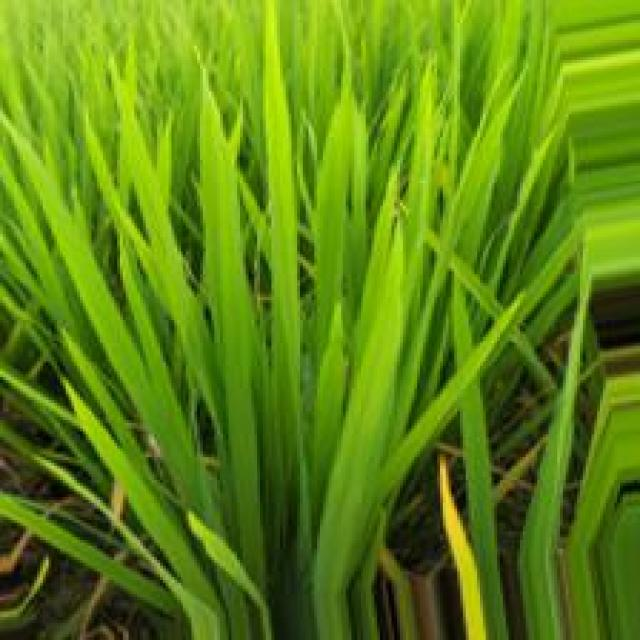HealthyLeaf: (13, 16, 312, 110), (323, 17, 389, 222)
